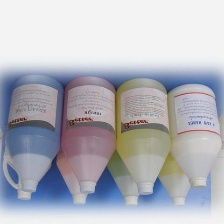cleaning_solution: (3, 69, 67, 194), (57, 72, 118, 195), (112, 74, 172, 198), (162, 81, 223, 193), (0, 106, 54, 202), (53, 115, 106, 207), (103, 124, 155, 209), (153, 126, 199, 209)
